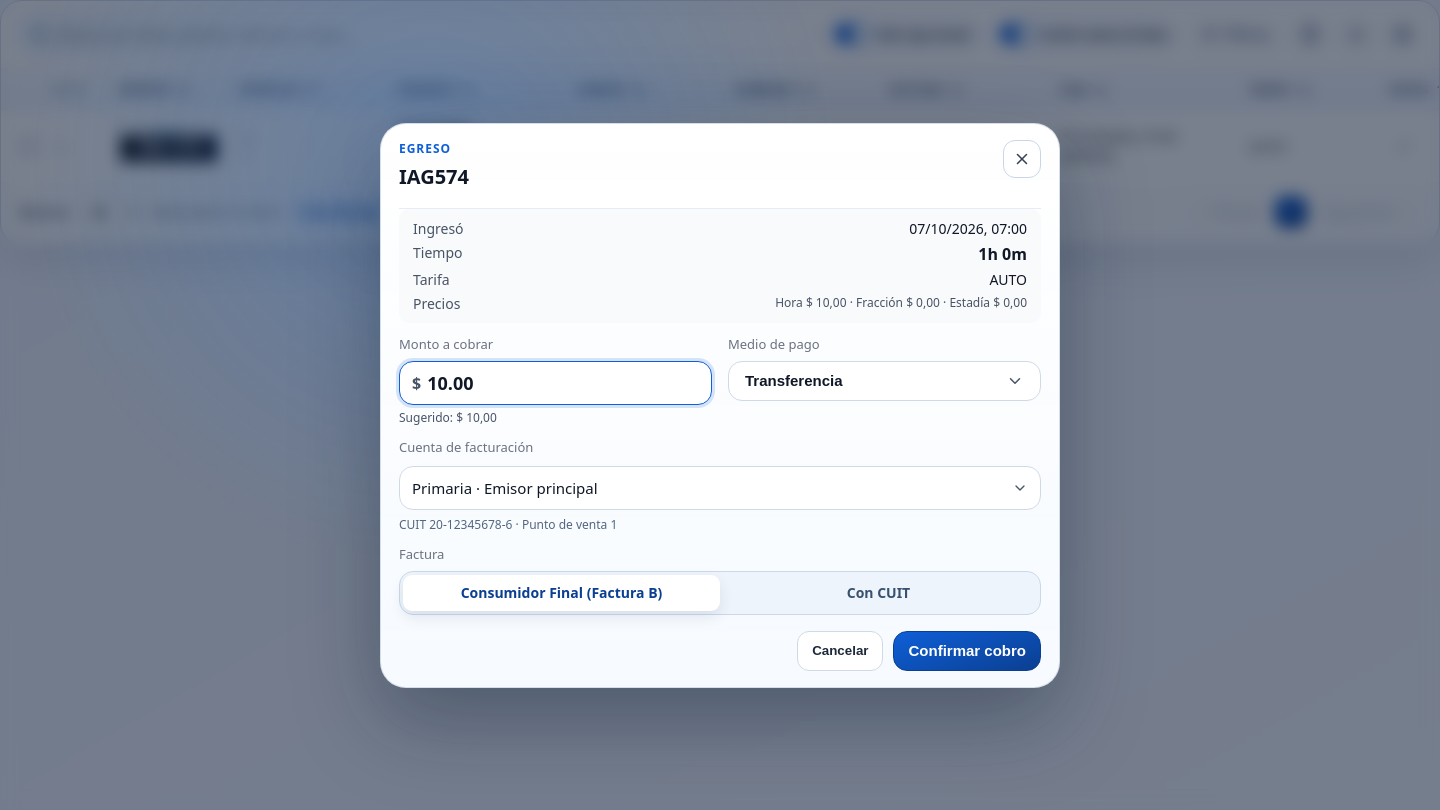
Test case: historial reactivo al facturar desde cualquier panel › el dueño elige secundaria antes del cobro automático; un egreso nuevo vuelve a primaria
The image size is (1440, 810).
Click the dropdown labelled "Primaria · Emisor principal" at coordinates (505, 488), box [399,466,1041,510]
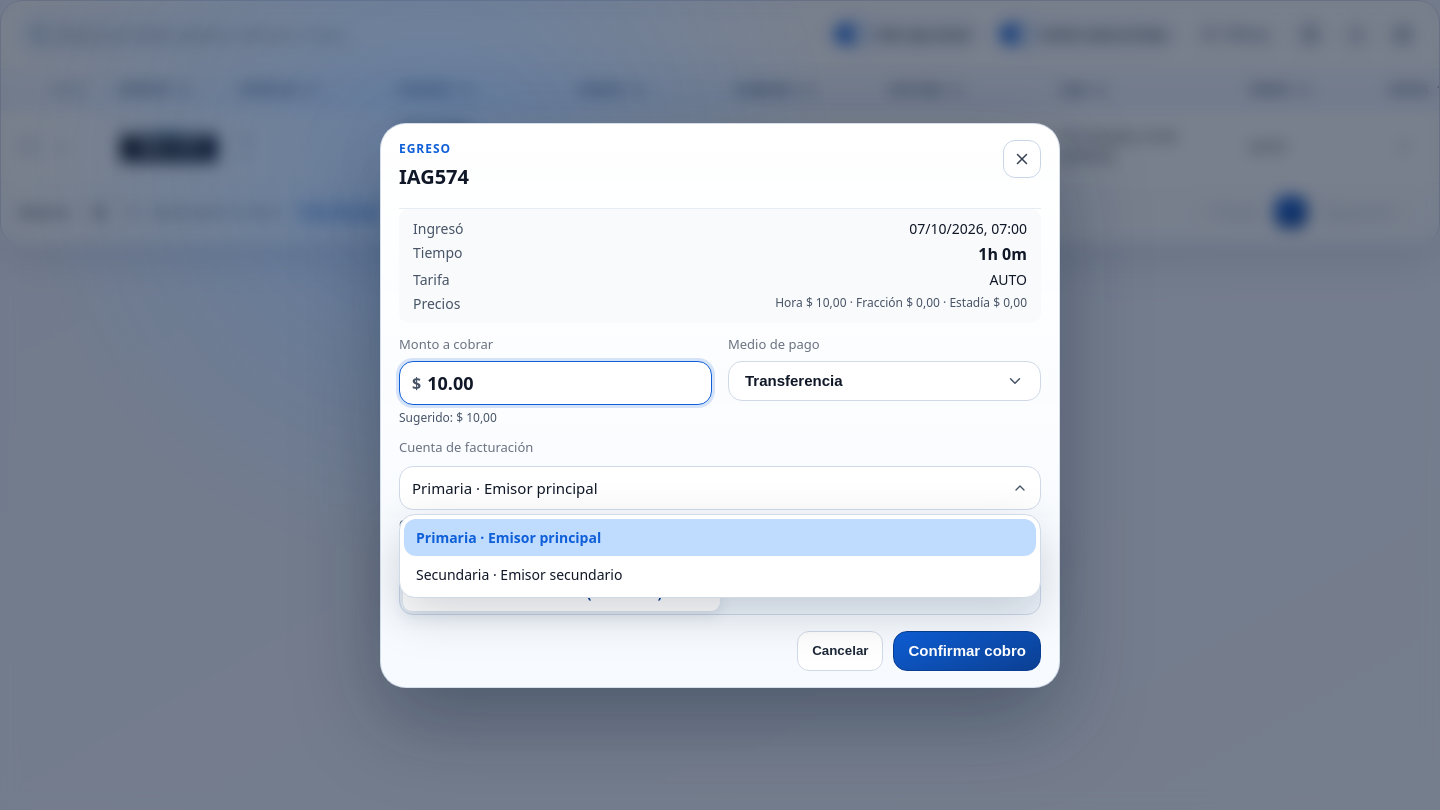
Press the mouse on the option "Secundaria · Emisor secundario" at coordinates (519, 574), box [416,564,622,584]
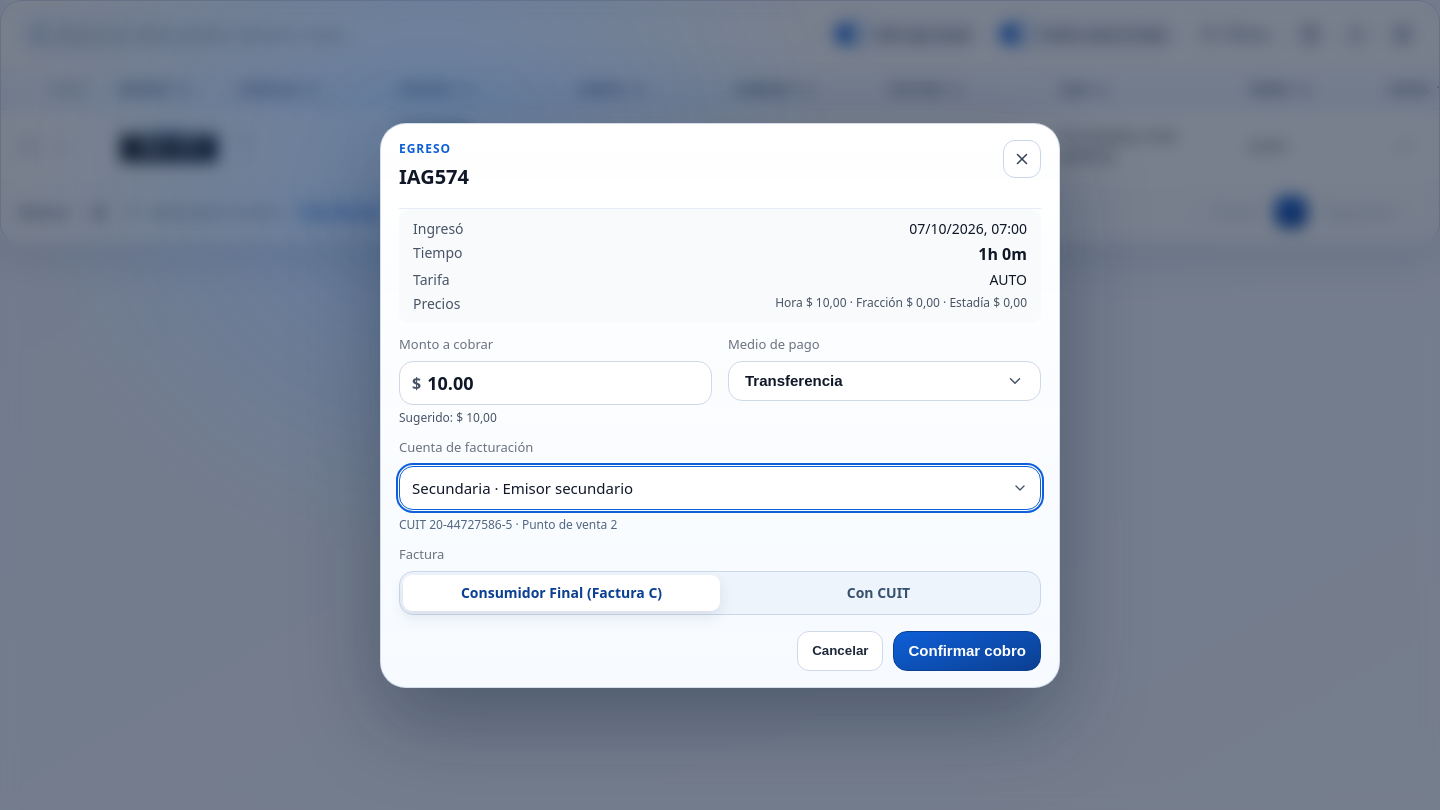
Click the button "Confirmar cobro" at coordinates (967, 650), box [894,630,1041,670]
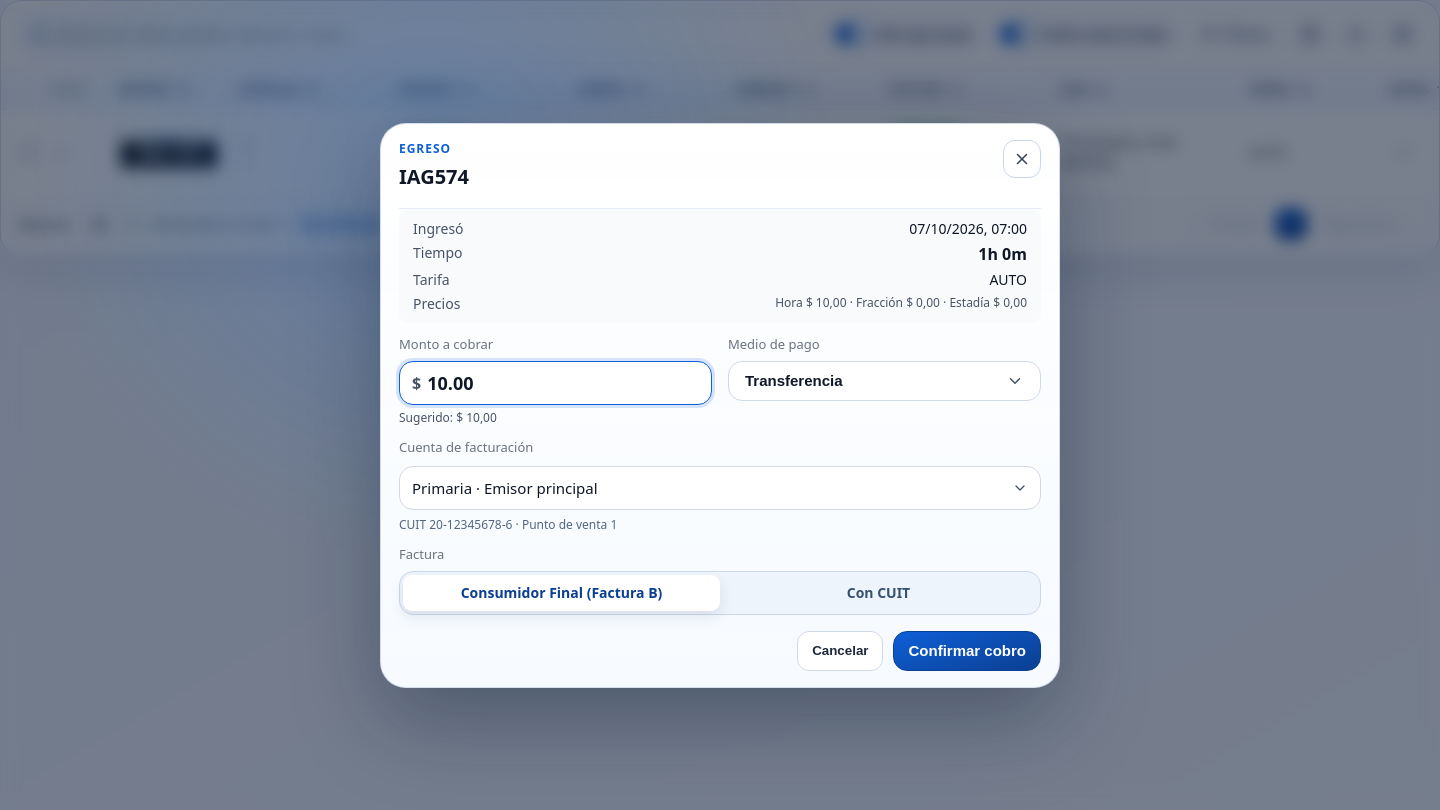
Check: the label with class "entry-invoice-account" shows "Emisor principal", box [399,466,1041,510]
